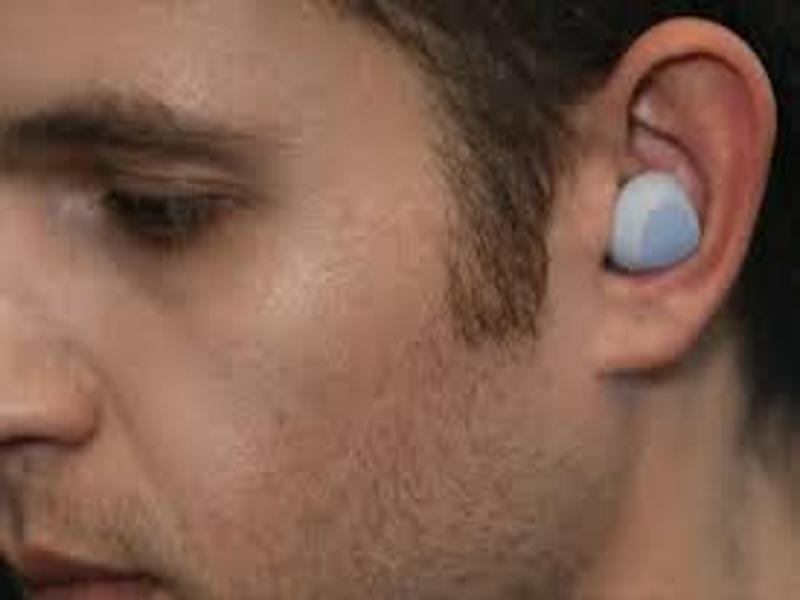headphone: (598, 169, 702, 276)
